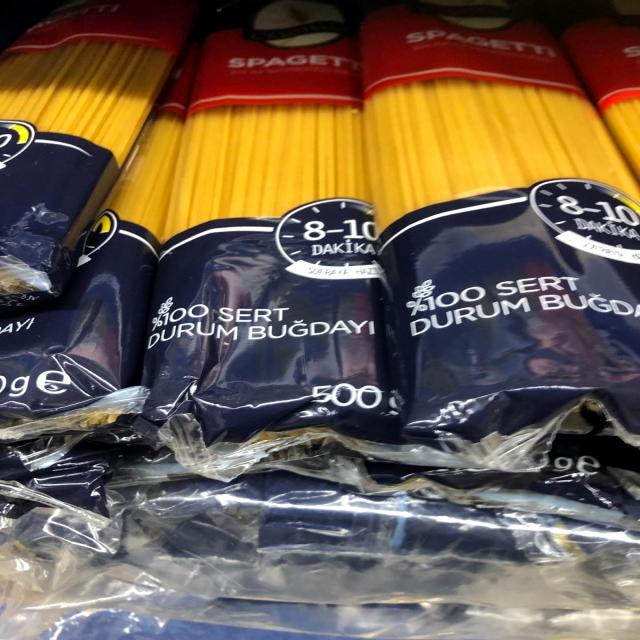spaghetti: (358, 8, 640, 443), (142, 6, 378, 415)
